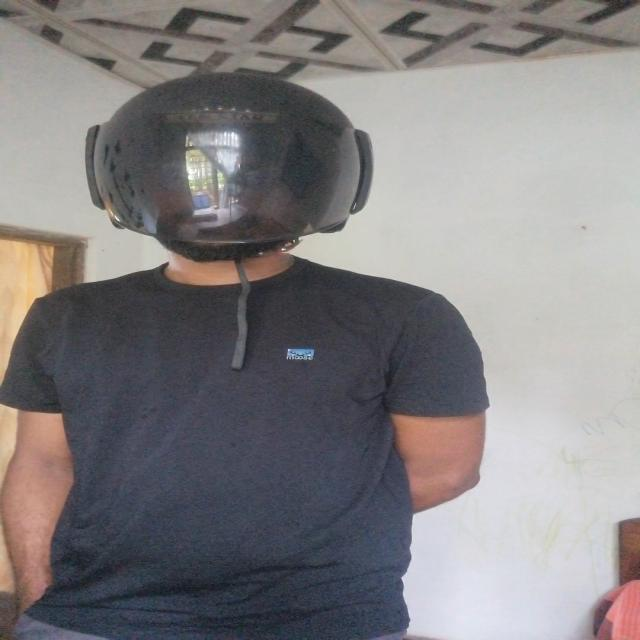Helmet_Wearer: (73, 70, 397, 309)
Person: (0, 62, 484, 639)
